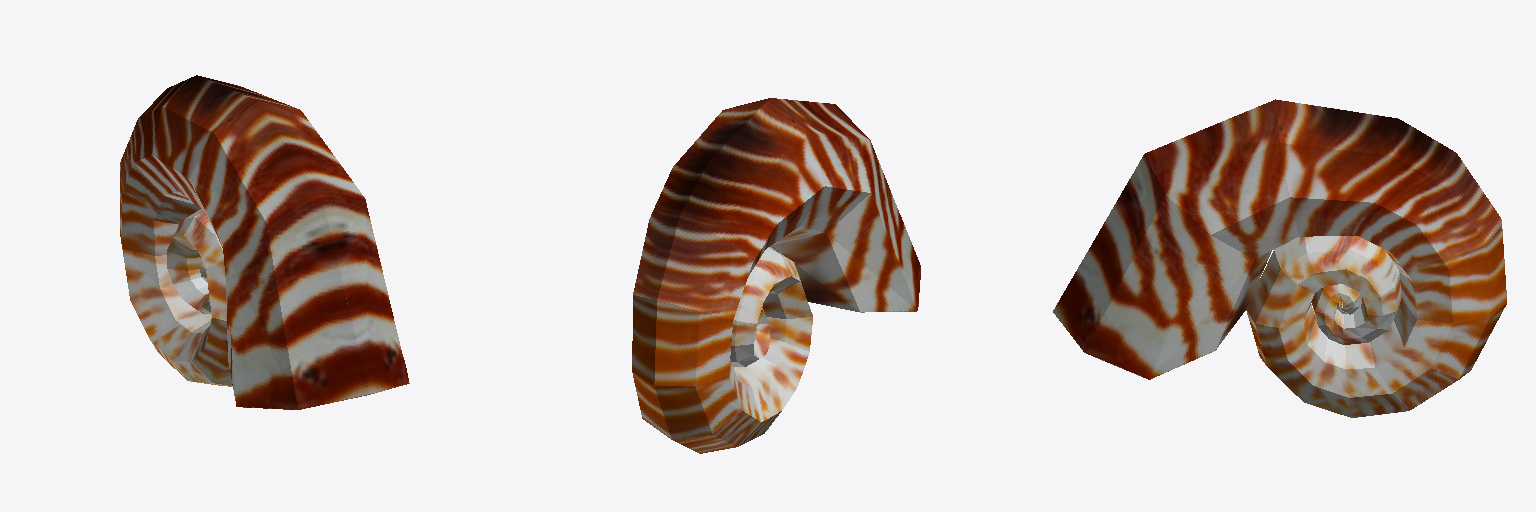
The picture shows the model from 3 angles: view 1: azimuth 30°, elevation 25°; view 2: azimuth 150°, elevation 25°; view 3: azimuth 270°, elevation 25°; orthographic projection.
Bounding box in the file's own units: 6.98 × 12.31 × 16.21.
1 materials, 1 textured.